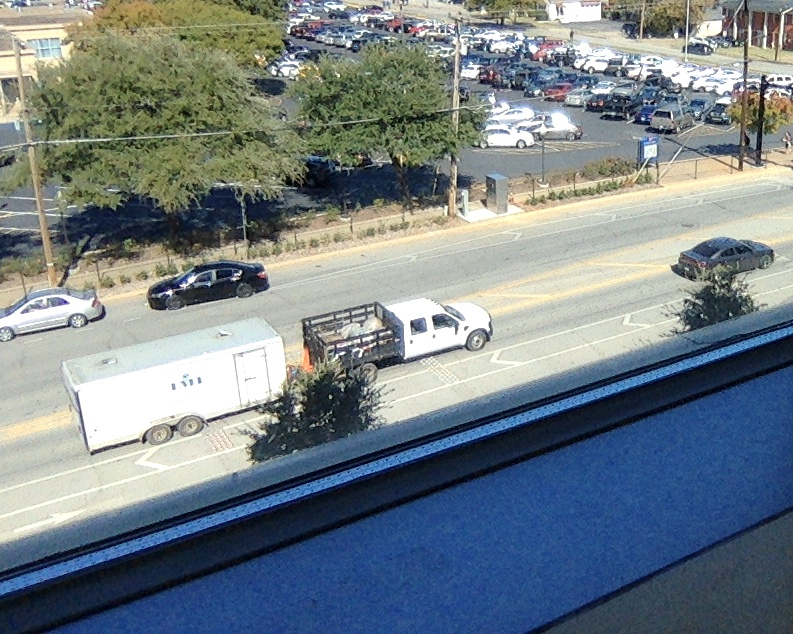car: (300, 300, 493, 382)
